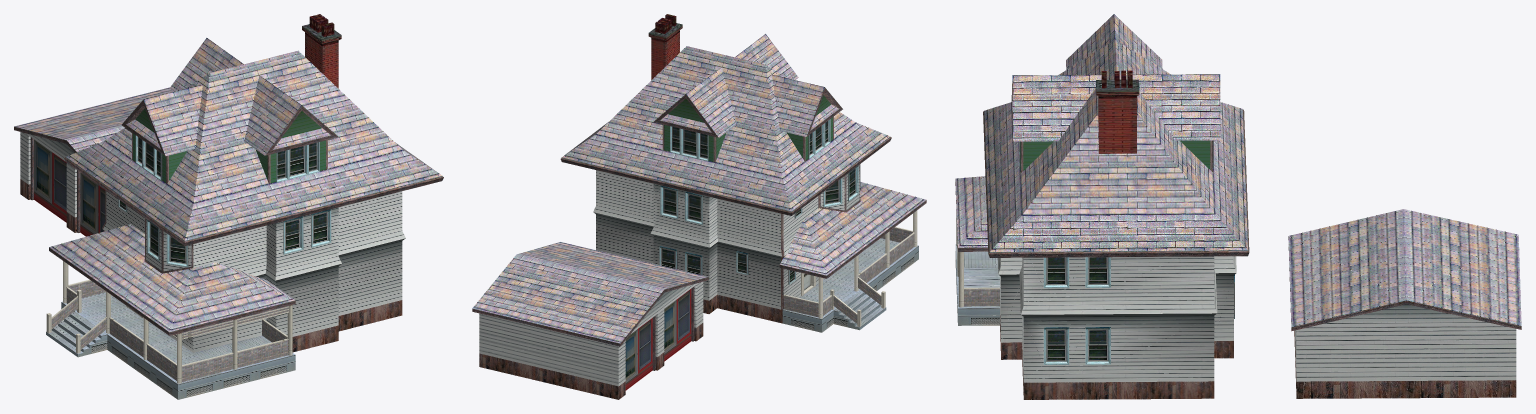
File: house1.obj
3 renders of one model, left to right at view 1: azimuth 30°, elevation 25°; view 2: azimuth 150°, elevation 25°; view 3: azimuth 270°, elevation 25°, orthographic. The views are drawn at different scales.
Visible parts, largest first — view 1: g g g mesh0001, g g g mesh0004, g g g mesh0002, g g g mesh0003, g g g mesh0006, g g g mesh0000, g g g mesh0005; view 2: g g g mesh0001, g g g mesh0004, g g g mesh0002, g g g mesh0000, g g g mesh0003, g g g mesh0006, g g g mesh0005; view 3: g g g mesh0001, g g g mesh0004, g g g mesh0000, g g g mesh0005, g g g mesh0002, g g g mesh0003, g g g mesh0006.
Part boxes in pixels (x1,y1,x2,y2): g g g mesh0001: (14,38,441,332); g g g mesh0004: (14,100,443,352); g g g mesh0002: (46,261,295,399); g g g mesh0003: (34,108,325,236); g g g mesh0006: (51,281,288,381); g g g mesh0000: (118,135,331,267); g g g mesh0005: (302,14,341,88); g g g mesh0001: (472,34,926,343); g g g mesh0004: (472,87,926,399); g g g mesh0002: (782,210,918,332); g g g mesh0000: (659,119,860,284); g g g mesh0003: (625,95,832,390); g g g mesh0006: (783,228,914,323); g g g mesh0005: (648,14,682,79); g g g mesh0001: (955,14,1521,327); g g g mesh0004: (955,83,1521,399); g g g mesh0000: (1019,140,1234,364); g g g mesh0005: (1096,70,1139,153); g g g mesh0002: (955,213,999,325); g g g mesh0003: (1020,140,1210,170); g g g mesh0006: (964,289,999,306).
Size of the model in its own units: 649 by 543 by 913.
